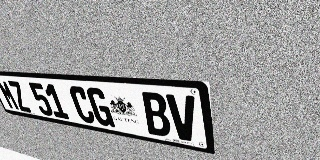1: (42, 83, 69, 119)
5: (28, 82, 55, 117)
B: (140, 91, 172, 138)
C: (67, 86, 97, 124)
G: (85, 87, 115, 128)
M: (0, 80, 21, 111)
V: (166, 94, 199, 143)
Z: (7, 81, 32, 113)
